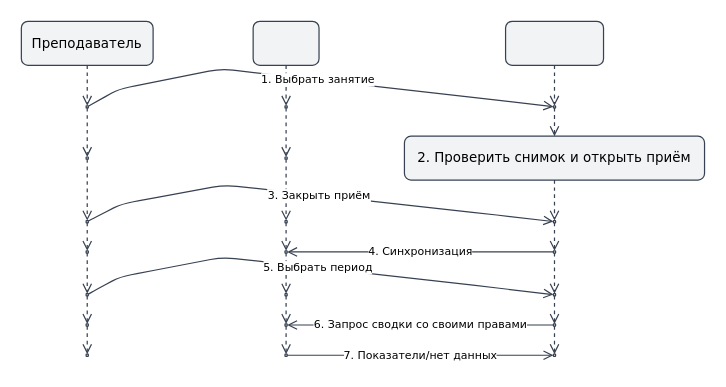
The diagram is 726 pixels wide and 387 high, and some of its shapes have lost their labels. Each missing label, with the box of its shape:
API: (252, 20, 319, 65)
TeacherApp: (504, 20, 604, 65)
